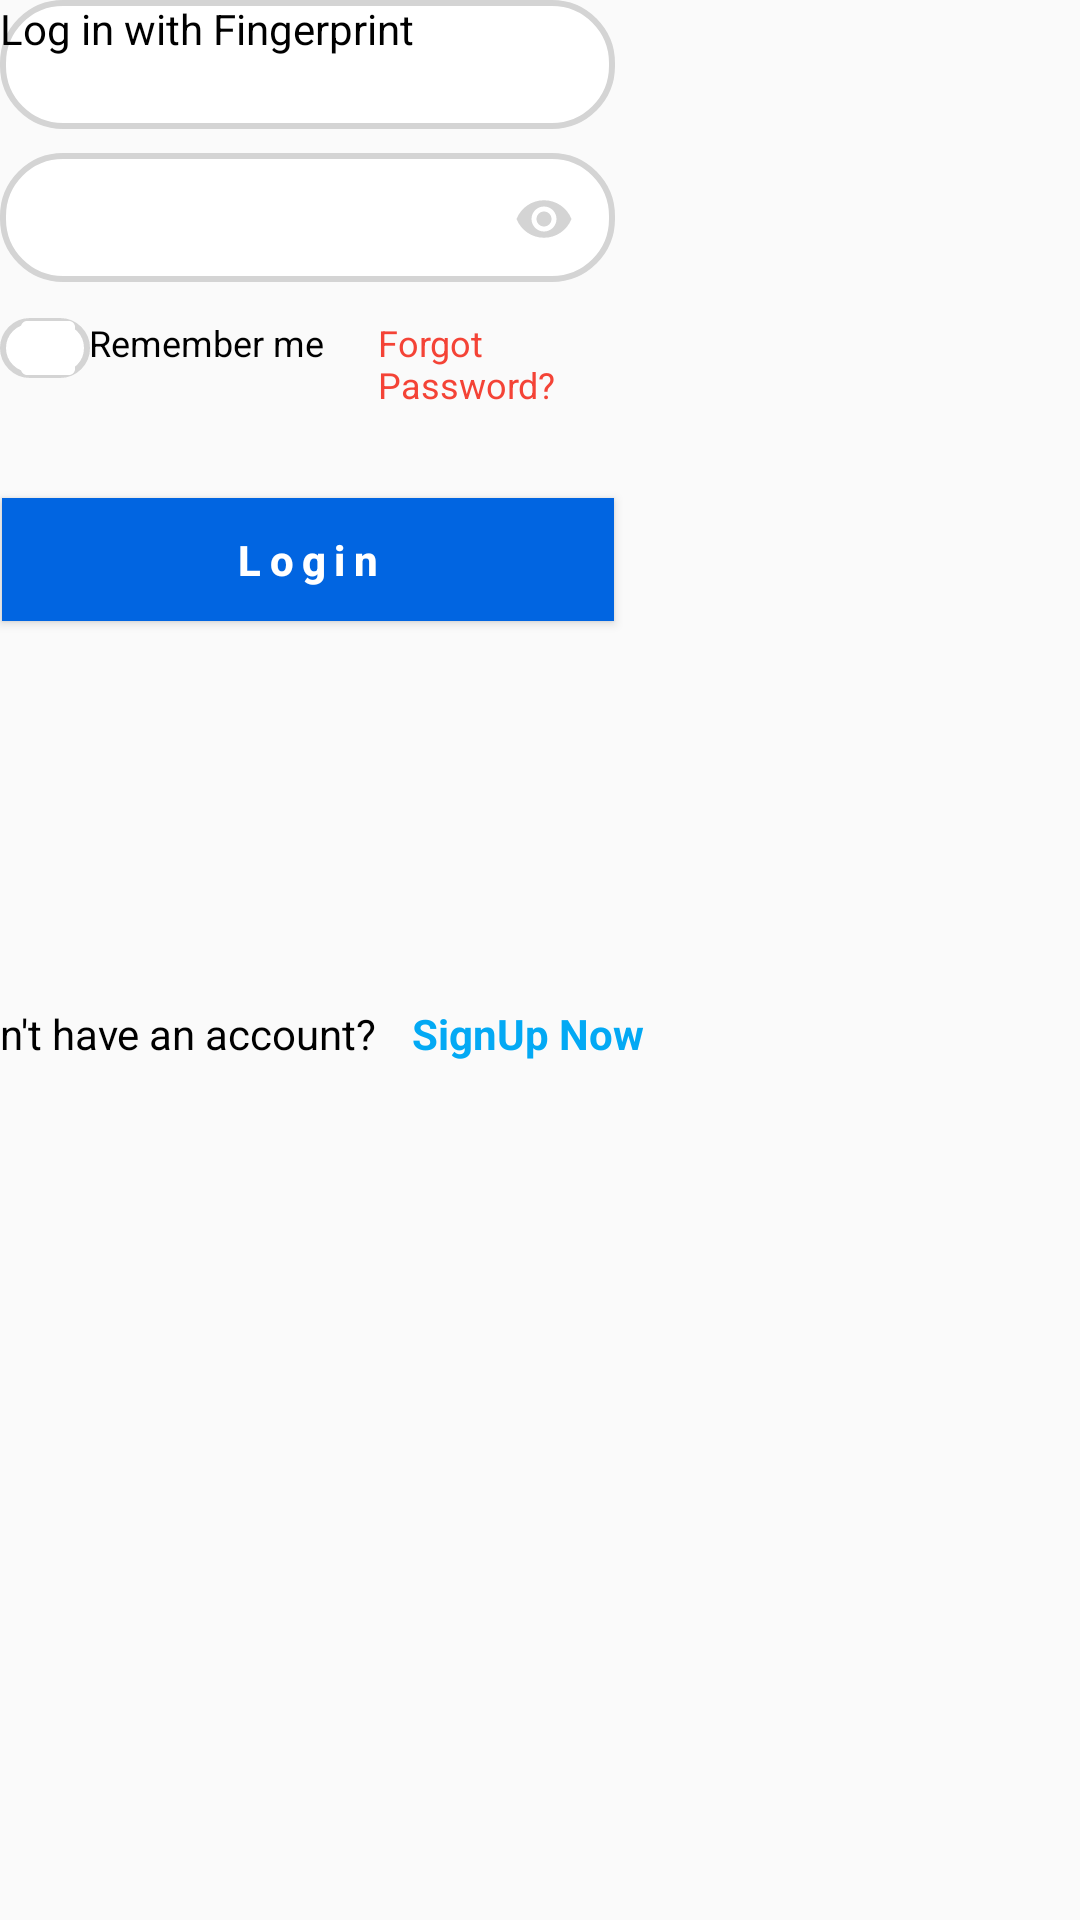

Icons on this 1080x1920 Android screen, each with the point to tap as point (x, y):
visibility: point (544, 219)
